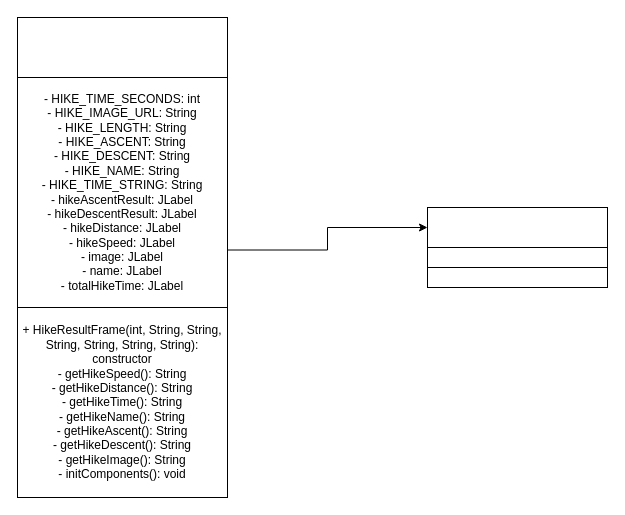
The diagram is 625 pixels wide and 515 high, and some of its shapes have lost their labels. The shapes that lost their labels are listed below. From the top down, each one's centre as x and y in pixels, then its label:
At [122,47]: "HikeResultFrame".
At [517,227]: "javax.swing.JFrame".
